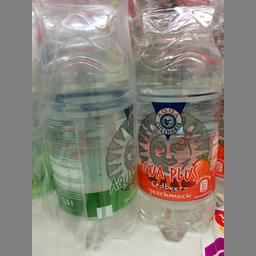water: (37, 0, 136, 249), (127, 0, 223, 241)
